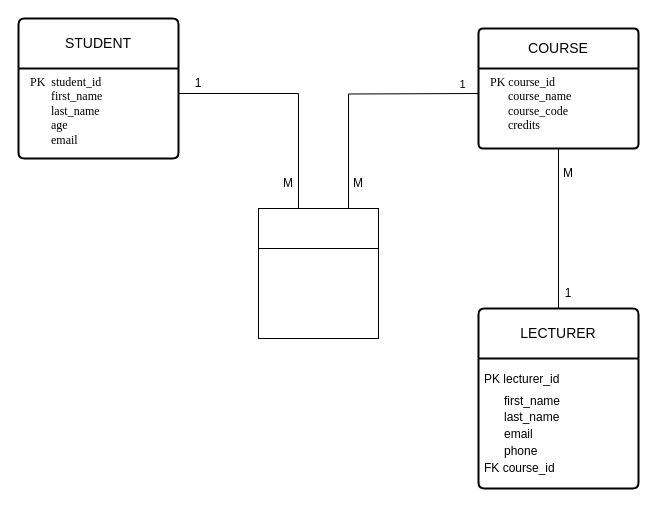
Some shapes in this 656 by 506 pixel diagram are drawn without their labels. Here are the shapes that lost their labels. From the top down, the centre of each, then its label:
At [318,228]: "ENROLLMENT".
At [318,293]: "PK enrollment_id FK student_id FK course_id enrollment_date".
